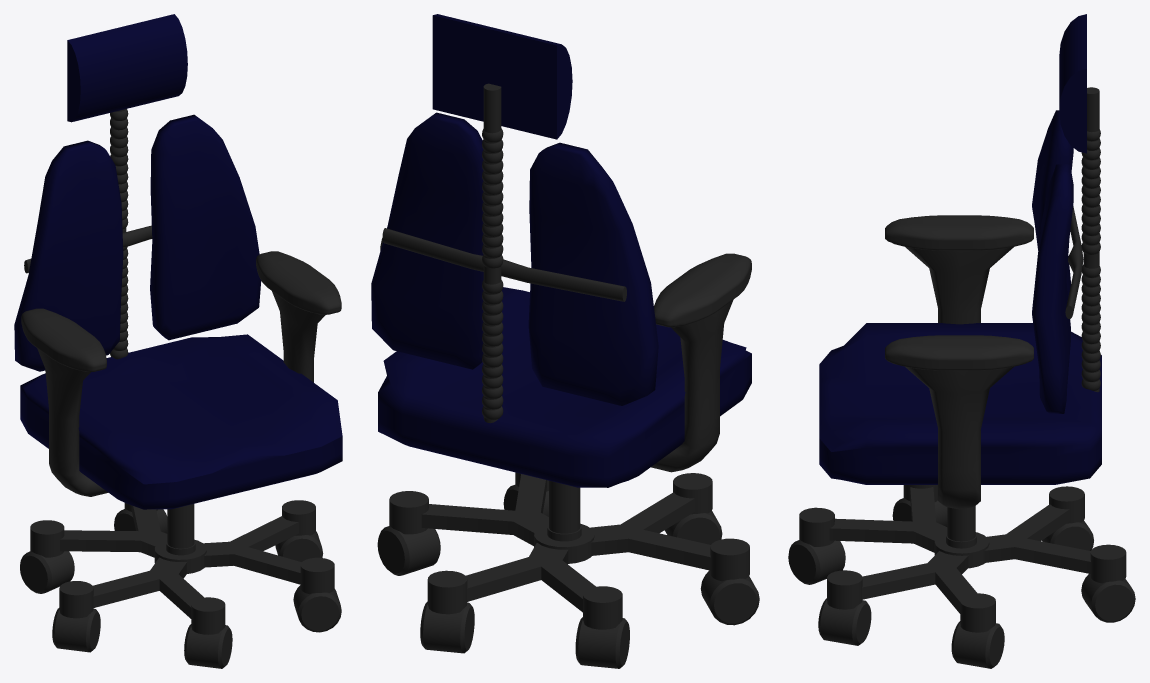
3 views of the same model, side by side, from view 1: azimuth 30°, elevation 25°; view 2: azimuth 150°, elevation 25°; view 3: azimuth 270°, elevation 25° (orthographic). The views are drawn at different scales.
Visible parts, largest first — view 1: pCube16; view 2: pCube16; view 3: pCube16.
Part boxes in pixels (<box>): pCube16: <box>14,14,342,668</box>; pCube16: <box>371,14,759,668</box>; pCube16: <box>788,14,1135,668</box>.
Bounding box in the file's own units: 515 × 885 × 499.
